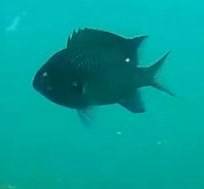smallfish: (27, 21, 172, 113)
